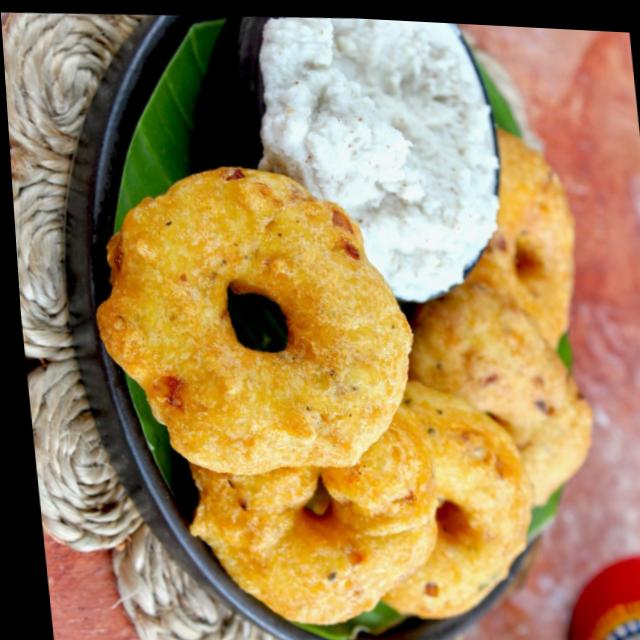VADA: (97, 128, 591, 623)
WHITE CHUTNEY: (259, 17, 500, 300)
